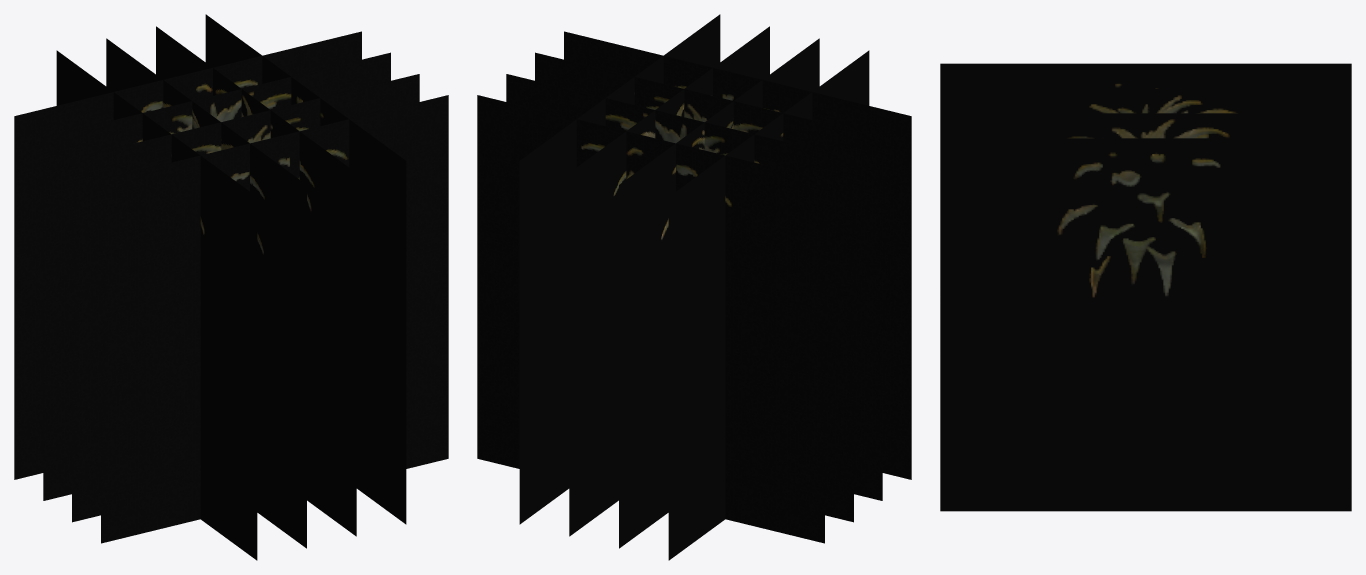
Rendered from quiver_tree_slim.glb.
3 views of the same model, side by side, from view 1: azimuth 30°, elevation 25°; view 2: azimuth 150°, elevation 25°; view 3: azimuth 270°, elevation 25° (orthographic). The views are drawn at different scales.
Parts seen in each view (by area): view 1: quiver_tree_slim; view 2: quiver_tree_slim; view 3: quiver_tree_slim.
Boxes of the visible parts, box(x1,y1,x2,y2) form: quiver_tree_slim: box(14, 14, 448, 560); quiver_tree_slim: box(477, 14, 911, 560); quiver_tree_slim: box(940, 63, 1351, 511).
Size of the model in its own units: 1.53 by 1.53 by 1.53.
1 material, 1 textured.
